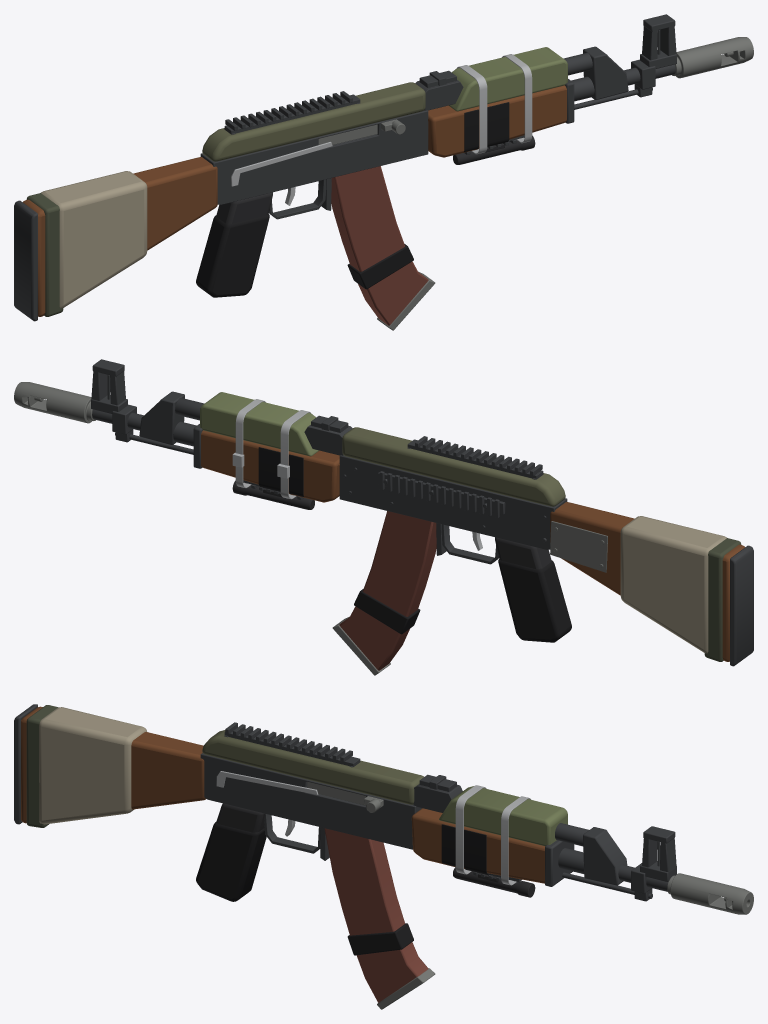
File: KS74_Zarnitsa_Blockout.glb
3 views of the same model, one above another, from view 1: azimuth 30°, elevation 25°; view 2: azimuth 150°, elevation 25°; view 3: azimuth 330°, elevation 25° (orthographic).
Parts seen in each view (by area): view 1: KS74_Stock_Wrap, KS74_Receiver, KS74_Magazine, KS74_DustCover, KS74_Stock, KS74_Grip_Tape, KS74_Handguard_Upper, KS74_Handguard_Lower, KS74_Stock_Buttplate, KS74_FrontSight, KS74_MuzzleBrake, KS74_DustCover_TopRail (+12 smaller); view 2: KS74_Stock_Wrap, KS74_Receiver, KS74_Magazine, KS74_DustCover, KS74_Grip_Tape, KS74_Handguard_Upper, KS74_Handguard_Lower, KS74_Stock, KS74_Stock_Buttplate, KS74_FrontSight, KS74_SideRail, KS74_MuzzleBrake (+12 smaller); view 3: KS74_Stock_Wrap, KS74_Receiver, KS74_Magazine, KS74_Stock, KS74_DustCover, KS74_Handguard_Upper, KS74_Grip_Tape, KS74_Handguard_Lower, KS74_MuzzleBrake, KS74_FrontSight, KS74_DustCover_TopRail, KS74_GasBlock (+15 smaller).
Boxes of the visible parts, bbox=[...] form: KS74_Stock_Wrap: bbox=[41, 171, 147, 308]; KS74_Receiver: bbox=[200, 110, 428, 204]; KS74_Magazine: bbox=[331, 166, 428, 325]; KS74_DustCover: bbox=[202, 82, 425, 161]; KS74_Stock: bbox=[23, 157, 217, 316]; KS74_Grip_Tape: bbox=[196, 214, 269, 297]; KS74_Handguard_Upper: bbox=[449, 47, 567, 111]; KS74_Handguard_Lower: bbox=[428, 85, 566, 157]; KS74_Stock_Buttplate: bbox=[14, 200, 37, 321]; KS74_FrontSight: bbox=[631, 14, 676, 97]; KS74_MuzzleBrake: bbox=[672, 37, 753, 78]; KS74_DustCover_TopRail: bbox=[224, 91, 360, 134]; KS74_Stock_Wrap: bbox=[620, 516, 726, 653]; KS74_Receiver: bbox=[339, 455, 567, 549]; KS74_Magazine: bbox=[339, 511, 436, 670]; KS74_DustCover: bbox=[342, 427, 565, 506]; KS74_Grip_Tape: bbox=[498, 559, 571, 642]; KS74_Handguard_Upper: bbox=[200, 392, 318, 456]; KS74_Handguard_Lower: bbox=[201, 430, 339, 502]; KS74_Stock: bbox=[550, 502, 744, 661]; KS74_Stock_Buttplate: bbox=[730, 545, 753, 666]; KS74_FrontSight: bbox=[91, 359, 136, 442]; KS74_SideRail: bbox=[378, 471, 505, 518]; KS74_MuzzleBrake: bbox=[14, 382, 95, 423]; KS74_Stock_Wrap: bbox=[39, 707, 146, 824]; KS74_Receiver: bbox=[200, 753, 421, 849]; KS74_Magazine: bbox=[324, 828, 428, 1002]; KS74_Stock: bbox=[21, 706, 205, 823]; KS74_DustCover: bbox=[202, 730, 423, 804]; KS74_Handguard_Upper: bbox=[439, 786, 567, 845]; KS74_Grip_Tape: bbox=[196, 822, 266, 901]; KS74_Handguard_Lower: bbox=[411, 808, 544, 883]; KS74_MuzzleBrake: bbox=[667, 873, 753, 914]; KS74_FrontSight: bbox=[631, 826, 676, 901]; KS74_DustCover_TopRail: bbox=[224, 722, 360, 767]; KS74_GasBlock: bbox=[583, 827, 627, 885].
Size of the model in its own units: 0.9468 by 0.3011 by 0.066.
